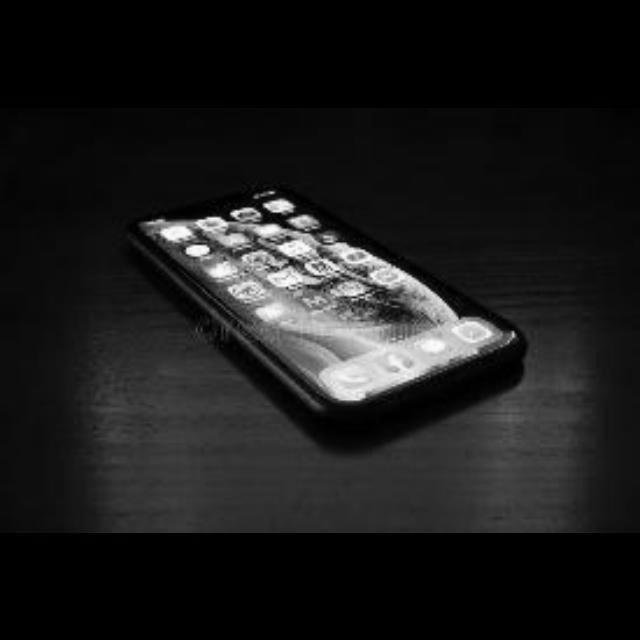fake: (79, 164, 559, 442)
